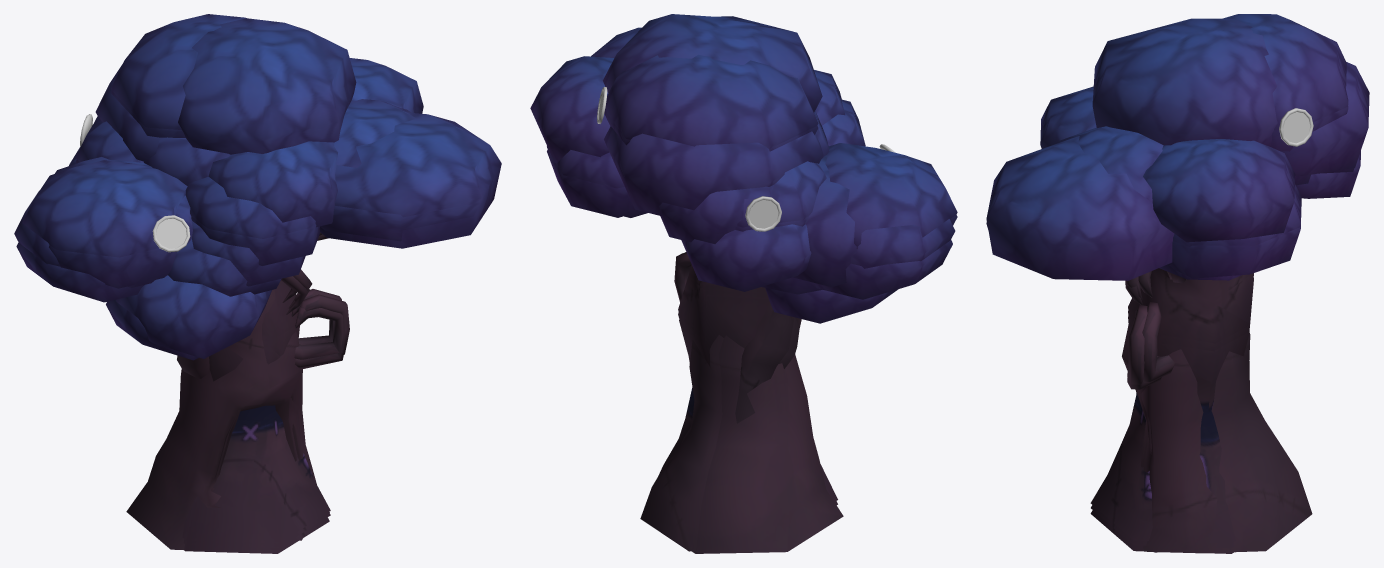
Rendered from tree_00.fbx.
3 views of the same model, side by side, from view 1: azimuth 30°, elevation 25°; view 2: azimuth 150°, elevation 25°; view 3: azimuth 270°, elevation 25° (orthographic). The views are drawn at different scales.
Visible parts, largest first — view 1: tree_01, tree_04, tree_07, tree_05, tree_06, tree_03, tree_02, tree_08; view 2: tree_01, tree_04, tree_07, tree_05, tree_06, tree_03, tree_08, tree_02; view 3: tree_04, tree_07, tree_01, tree_03, tree_02, tree_08, tree_05, tree_06.
Boxes of the visible parts, x1=… form: tree_01: x1=22, y1=14, x2=415, y2=543; tree_04: x1=55, y1=18, x2=423, y2=512; tree_07: x1=16, y1=64, x2=501, y2=359; tree_05: x1=126, y1=234, x2=328, y2=549; tree_06: x1=14, y1=137, x2=479, y2=540; tree_03: x1=49, y1=91, x2=330, y2=547; tree_02: x1=184, y1=345, x2=329, y2=553; tree_08: x1=282, y1=288, x2=341, y2=345; tree_01: x1=547, y1=54, x2=957, y2=501; tree_04: x1=530, y1=14, x2=857, y2=551; tree_07: x1=591, y1=27, x2=952, y2=299; tree_05: x1=692, y1=335, x2=843, y2=553; tree_06: x1=688, y1=110, x2=955, y2=368; tree_03: x1=547, y1=110, x2=957, y2=505; tree_08: x1=674, y1=252, x2=794, y2=423; tree_02: x1=679, y1=294, x2=769, y2=366; tree_04: x1=1040, y1=18, x2=1354, y2=553; tree_07: x1=986, y1=62, x2=1369, y2=384; tree_01: x1=1058, y1=14, x2=1348, y2=543; tree_03: x1=1091, y1=106, x2=1348, y2=548; tree_02: x1=1090, y1=272, x2=1253, y2=553; tree_08: x1=1138, y1=271, x2=1174, y2=381; tree_05: x1=1122, y1=271, x2=1171, y2=551; tree_06: x1=986, y1=174, x2=1310, y2=552.
Bounding box in the file's own units: 22.32 × 25.48 × 17.55.
